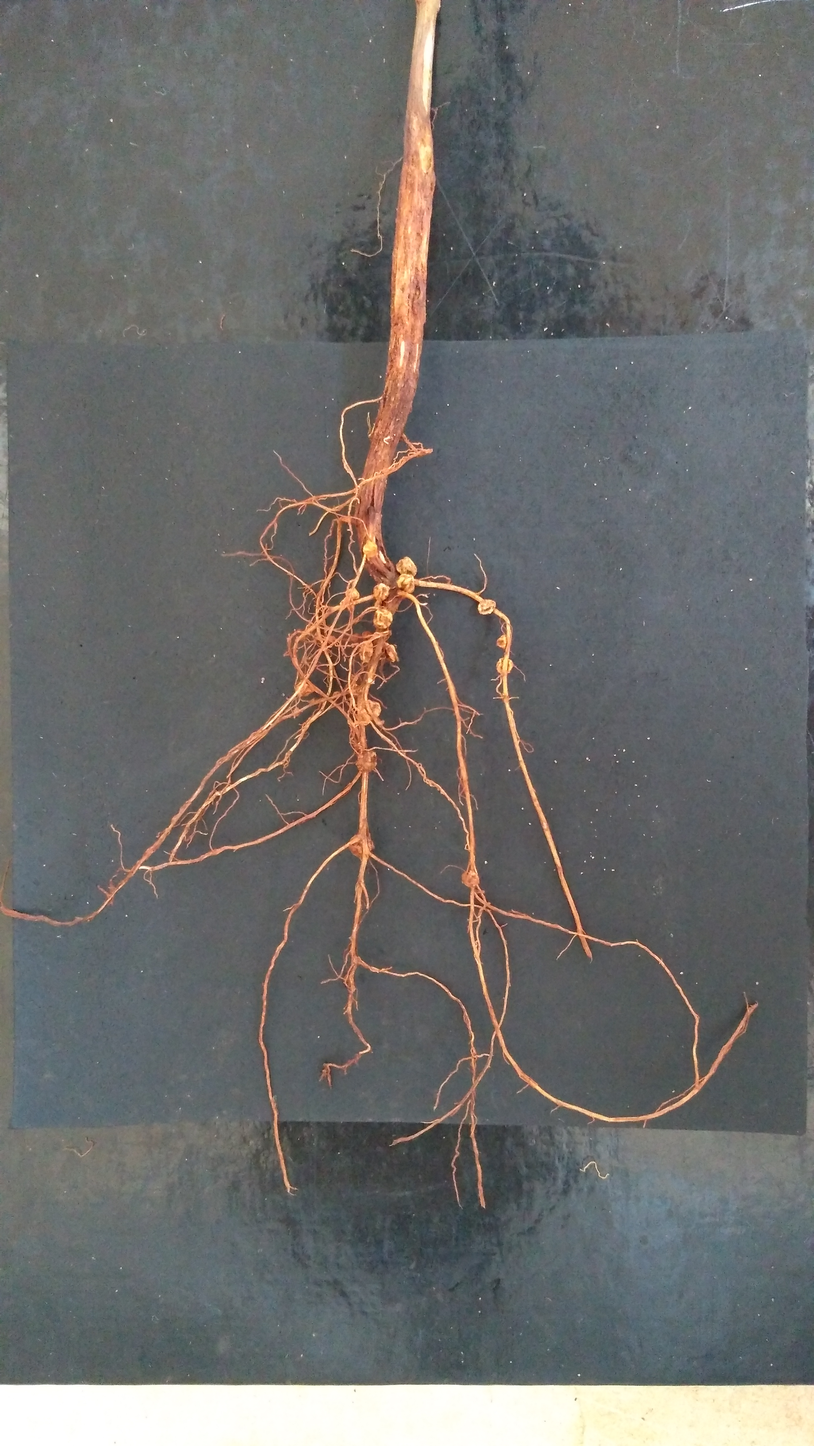nodule: (349, 833, 374, 859), (358, 699, 381, 721), (395, 556, 417, 577), (356, 750, 377, 772), (373, 609, 393, 629), (397, 573, 414, 593), (358, 642, 374, 663), (384, 642, 398, 663), (373, 583, 389, 601), (461, 871, 479, 887), (478, 599, 496, 615), (362, 540, 378, 557), (496, 657, 513, 673), (295, 683, 314, 697), (345, 588, 359, 599), (497, 634, 507, 649), (351, 683, 360, 697), (351, 633, 361, 643), (326, 635, 336, 644), (361, 631, 372, 639), (333, 691, 340, 698), (367, 677, 373, 684)
